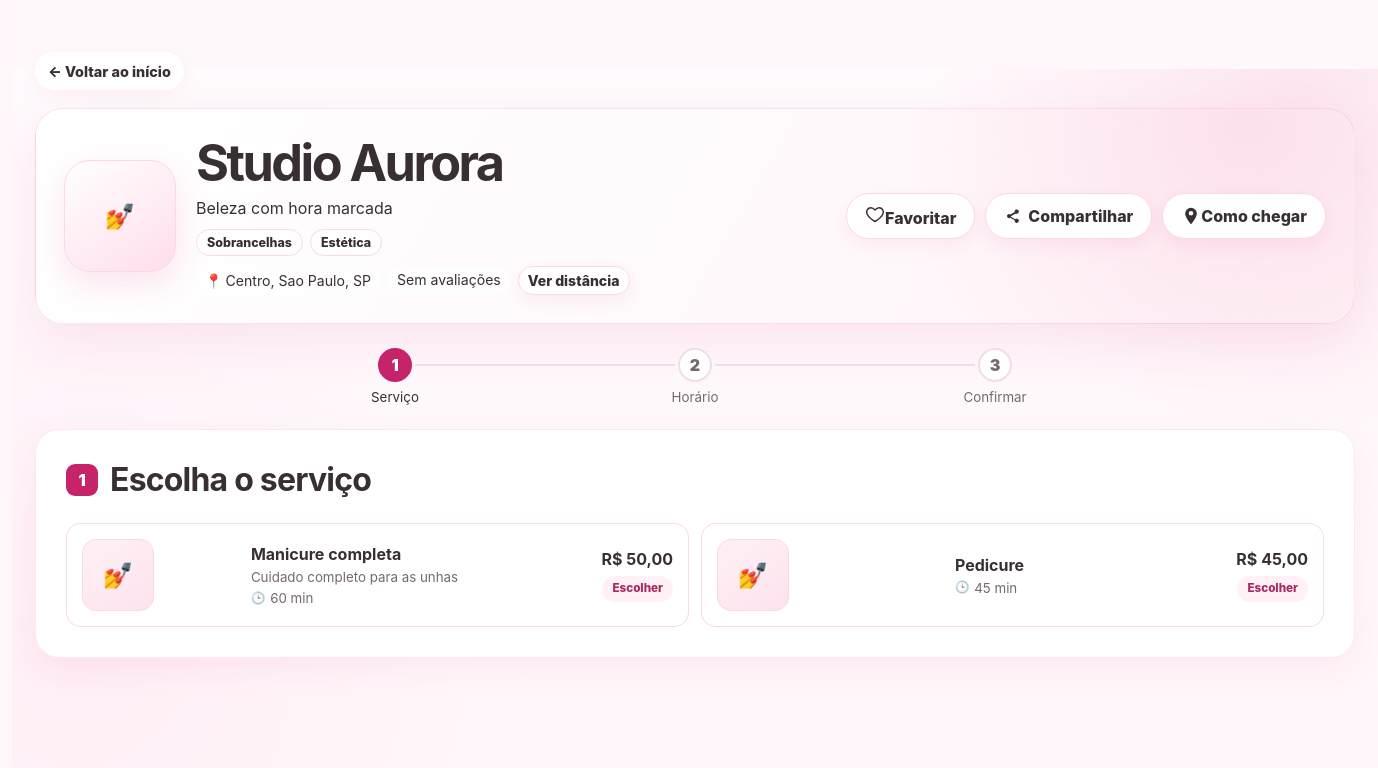
Scenario: fluxo publico de agendamento › remove a escolha de profissional quando existe apenas uma opção
Expected: the heading "Studio Aurora" is shown, top-left (196, 132), bottom-right (503, 193)
Expected: the number of list items is 3, top-left (371, 348), bottom-right (419, 405); top-left (672, 348), bottom-right (718, 405); top-left (963, 348), bottom-right (1027, 405)
Click the button with aria-label "Selecionar Manicure completa" at (378, 575), box top-left (67, 524), bottom-right (688, 626)
(page scrolled)
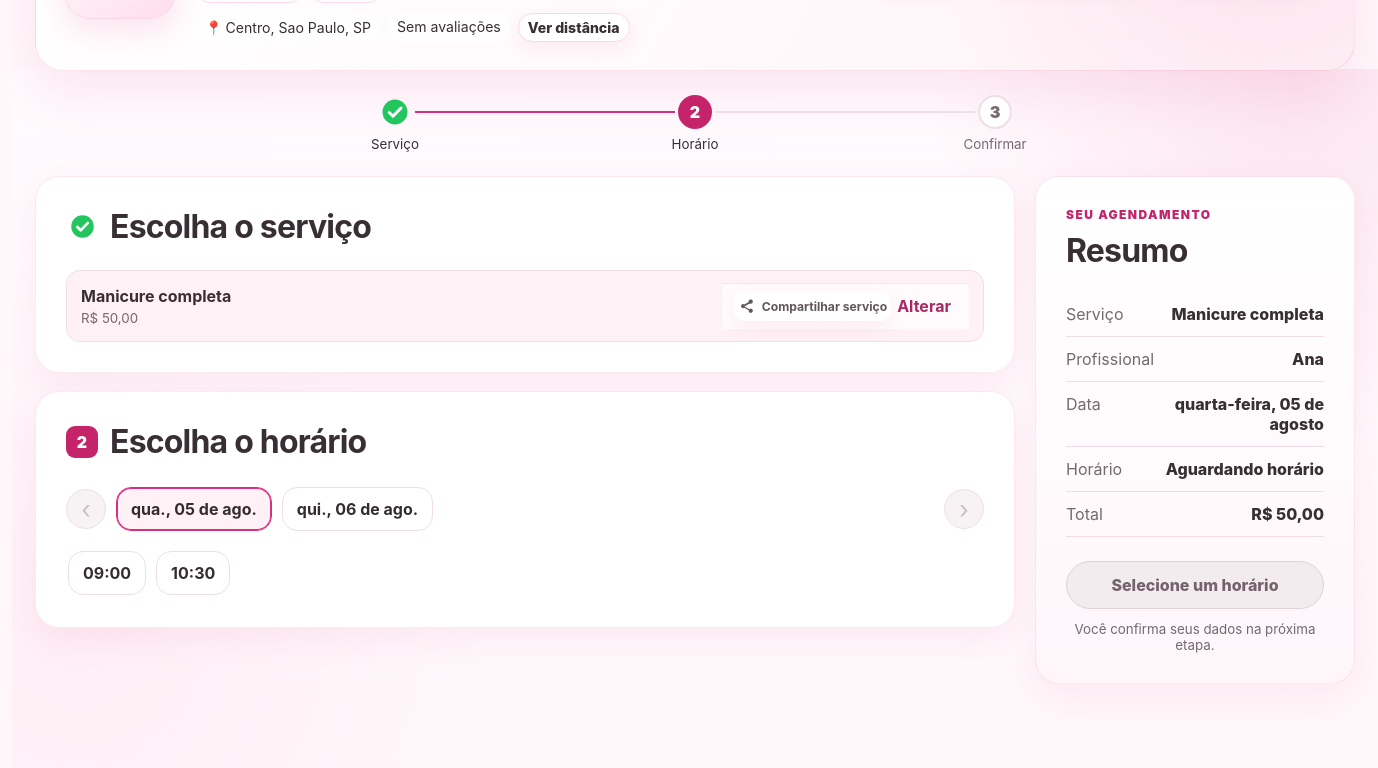
Expected: the button "09:00" is shown, top-left (68, 551), bottom-right (146, 595)
